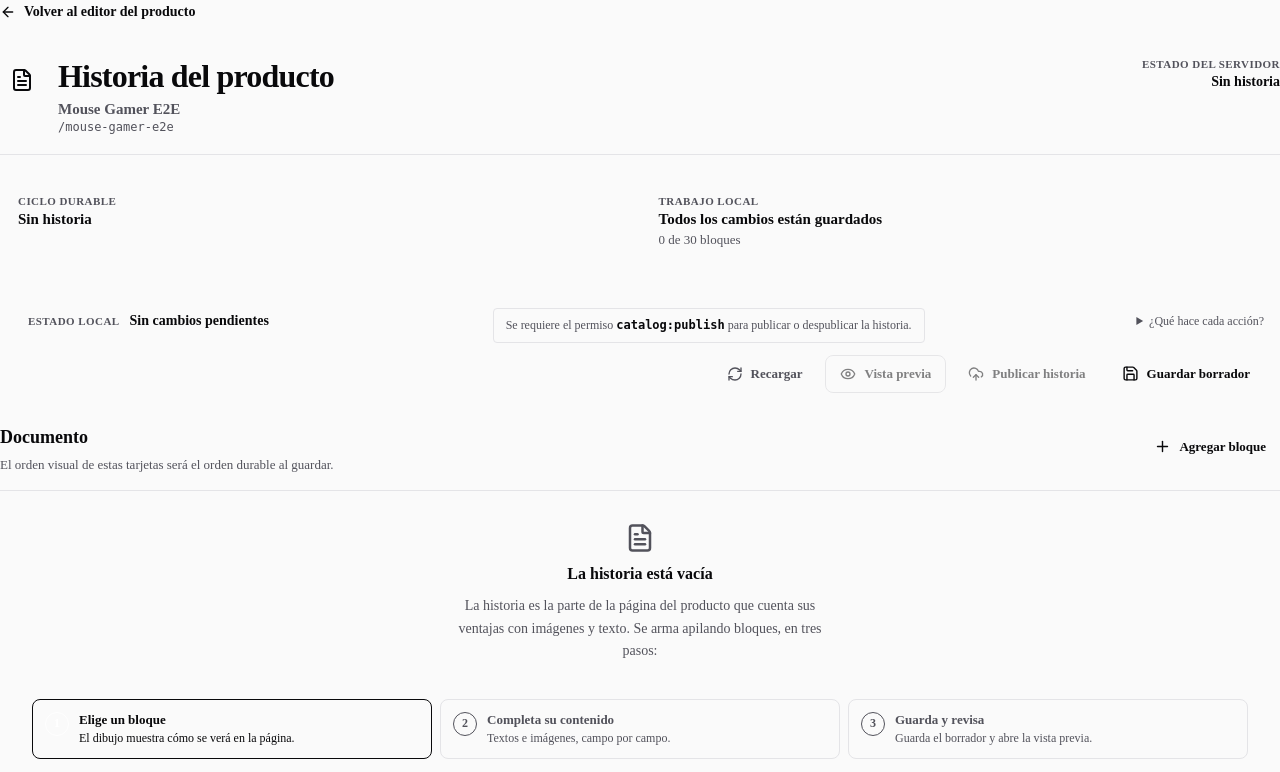
Test case: GP-026 CHK2 Story Builder component › A. INVALID NEW BLOCK: keeps Save operable, performs local validation without Server Action, shows ValidationSummary and inline error, and focuses the first inva
Click the button "Agregar bloque": (1210, 447) [1140,425,1279,469]
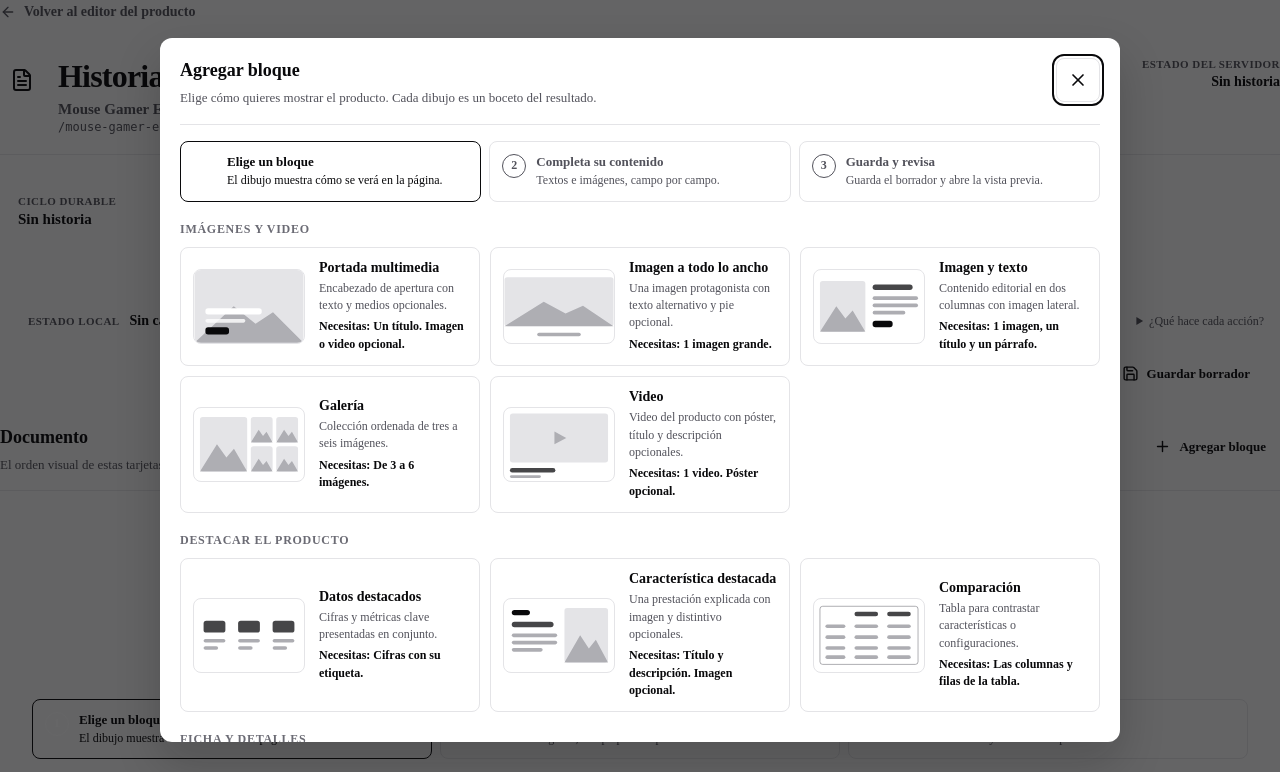
Click the button "Portada multimedia": (330, 306) [180,247,480,366]
(page scrolled)
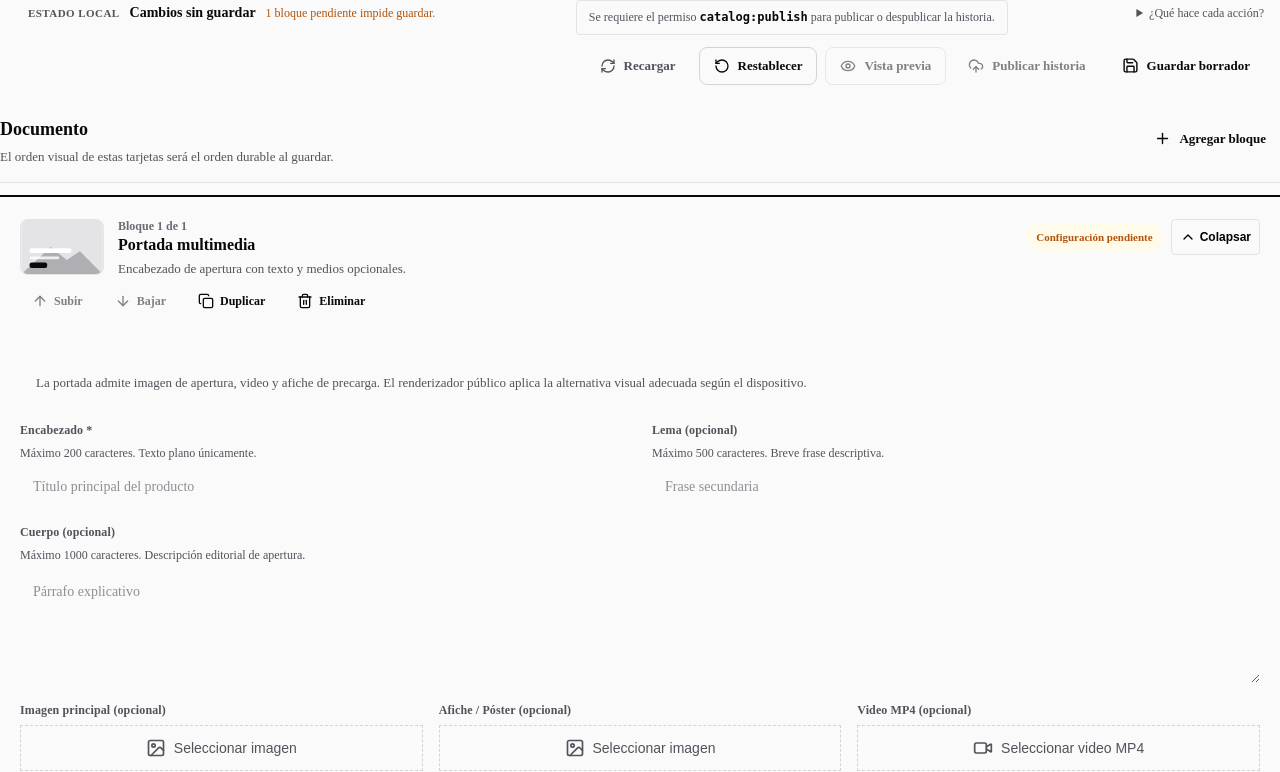
Click the button with test id "story-save-draft": (1186, 66) [1108,47,1264,85]
(page scrolled)
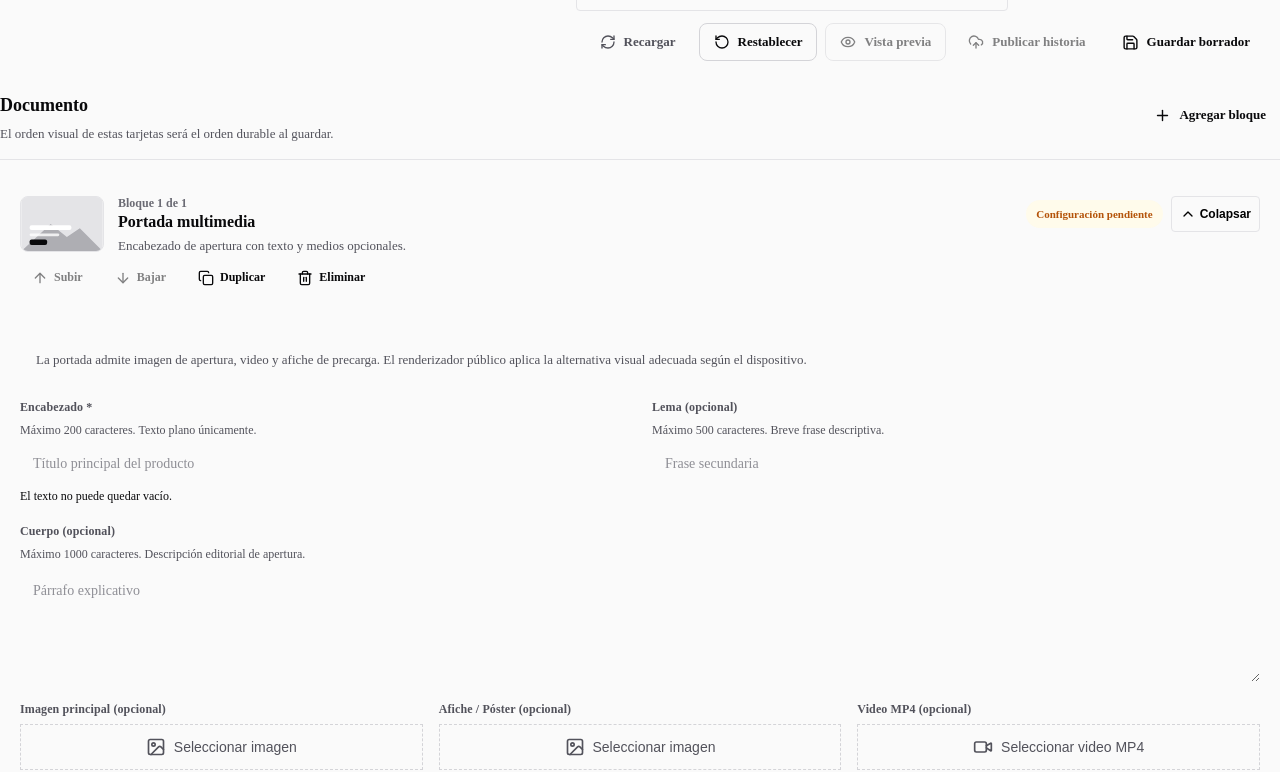
expect the text "El texto no puede quedar vacío." is shown: met, box [20,489,172,503]
